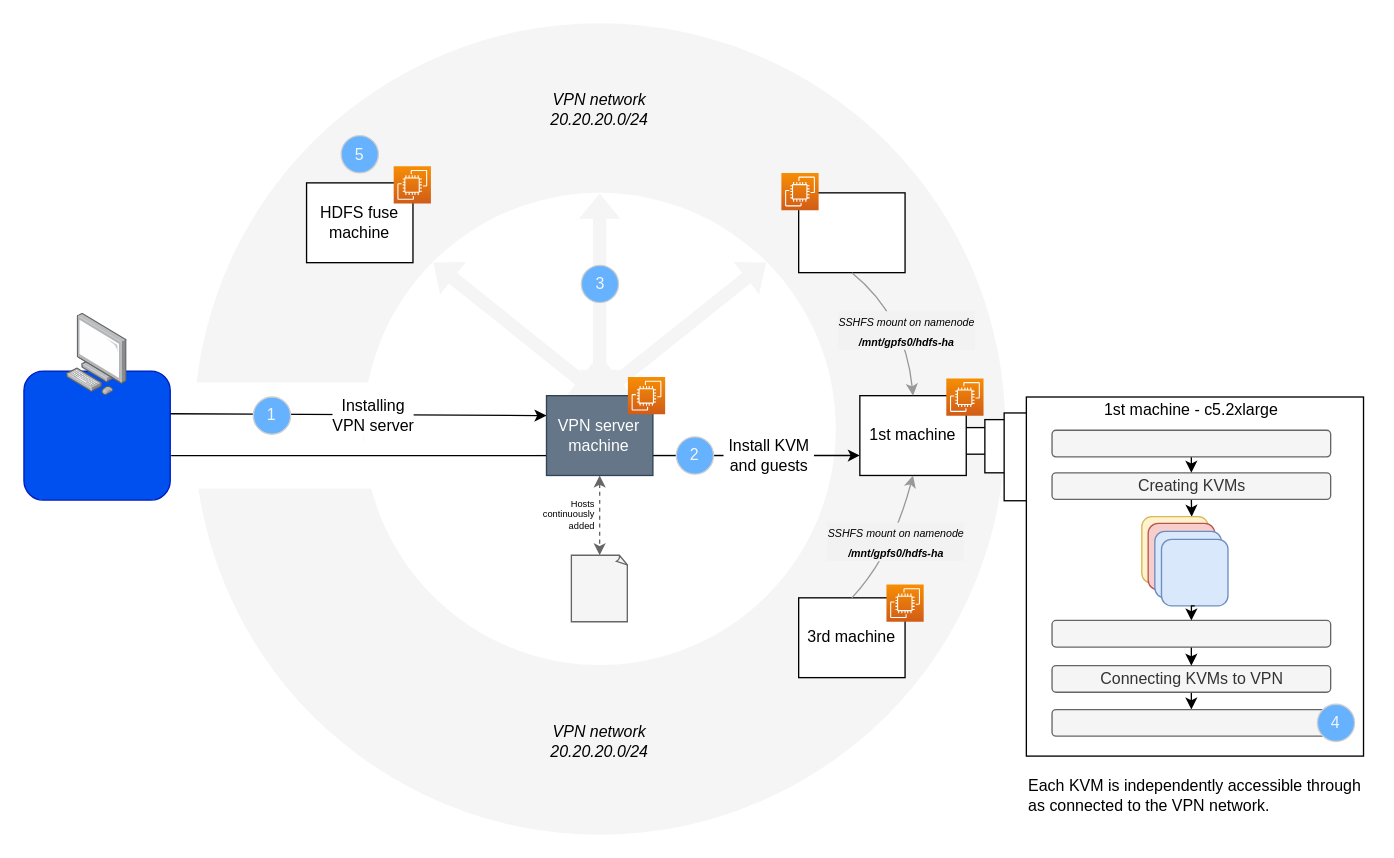
Image size: 1394x858. Some labels were removed from this diagram. The centre of each missing label's shape, as x and y in pixels:
"2nd machine" belongs at point (851, 232).
"Adding id_rsa.pub to each KVM" belongs at point (1191, 633).
"Adding id_rsa.pub to machine" belongs at point (1191, 443).
"Administrator computer (Ansible)" belongs at point (96, 435).
"global .ini" belongs at point (599, 588).
"Installing Hadoop" belongs at point (1191, 722).
